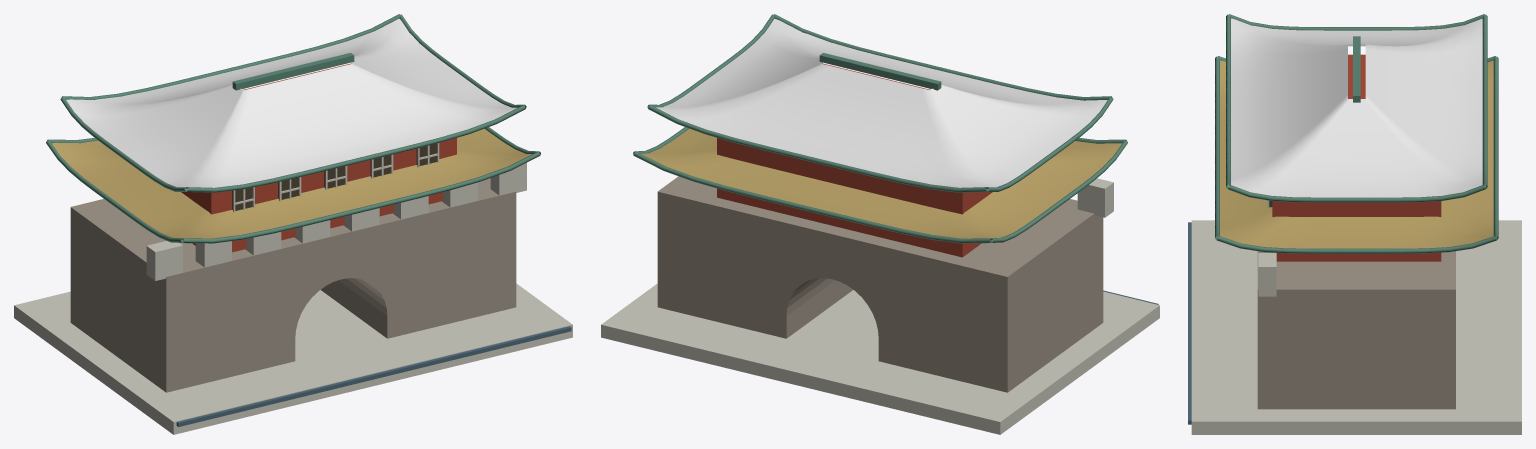
Rendered from taierzhuang_detail.glb.
The picture shows the model from 3 angles, left to right: view 1: azimuth 30°, elevation 25°; view 2: azimuth 150°, elevation 25°; view 3: azimuth 270°, elevation 25°; orthographic projection. The views are drawn at different scales.
Parts seen in each view (by area): view 1: Glazed roof tile seams, left pier, stone plinth, right pier, lower eaves, arched stone span, red upper hall, water strip, green glazed edge.004, green glazed edge, green glazed edge.002, battlement (+11 smaller); view 2: Glazed roof tile seams, left pier, stone plinth, right pier, lower eaves, red upper hall, arched stone span, green glazed edge.006, green glazed edge.002, green glazed edge, roof ridge, battlement (+3 smaller); view 3: Glazed roof tile seams, stone plinth, right pier, lower eaves, red upper hall, green glazed edge.005, green glazed edge.001, green glazed edge.006, green glazed edge.003, green glazed edge.002, green glazed edge.004, green glazed edge (+3 smaller).
Part boxes in pixels (box(x1,y1,x2,y2)): Glazed roof tile seams: box(66, 18, 517, 189); left pier: box(70, 199, 295, 392); stone plinth: box(14, 283, 572, 434); right pier: box(321, 178, 516, 338); lower eaves: box(52, 128, 531, 240); arched stone span: box(287, 218, 387, 335); red upper hall: box(181, 63, 456, 252); water strip: box(176, 326, 571, 426); green glazed edge.004: box(181, 151, 540, 243); green glazed edge: box(185, 105, 525, 192); green glazed edge.002: box(61, 14, 400, 99); battlement: box(146, 241, 182, 280); Glazed roof tile seams: box(656, 18, 1107, 189); left pier: box(878, 199, 1103, 392); stone plinth: box(601, 283, 1159, 434); right pier: box(657, 176, 852, 338); lower eaves: box(641, 128, 1121, 240); red upper hall: box(717, 63, 992, 257); arched stone span: box(786, 216, 886, 335); green glazed edge.006: box(633, 151, 992, 243); green glazed edge.002: box(648, 105, 988, 192); green glazed edge: box(773, 14, 1112, 100); roof ridge: box(819, 53, 941, 90); battlement: box(1077, 178, 1113, 217); Glazed roof tile seams: box(1228, 18, 1485, 197); stone plinth: box(1191, 220, 1521, 434); right pier: box(1257, 251, 1455, 409); lower eaves: box(1217, 60, 1496, 248); red upper hall: box(1272, 54, 1441, 261); green glazed edge.005: box(1216, 236, 1496, 253); green glazed edge.001: box(1227, 184, 1485, 202); green glazed edge.006: box(1493, 56, 1498, 239); green glazed edge.003: box(1229, 14, 1484, 30); green glazed edge.002: box(1482, 14, 1487, 188); green glazed edge.004: box(1215, 56, 1219, 239); green glazed edge: box(1226, 14, 1230, 188).
Size of the model in its own units: 6.5 by 4.03 by 4.55.
